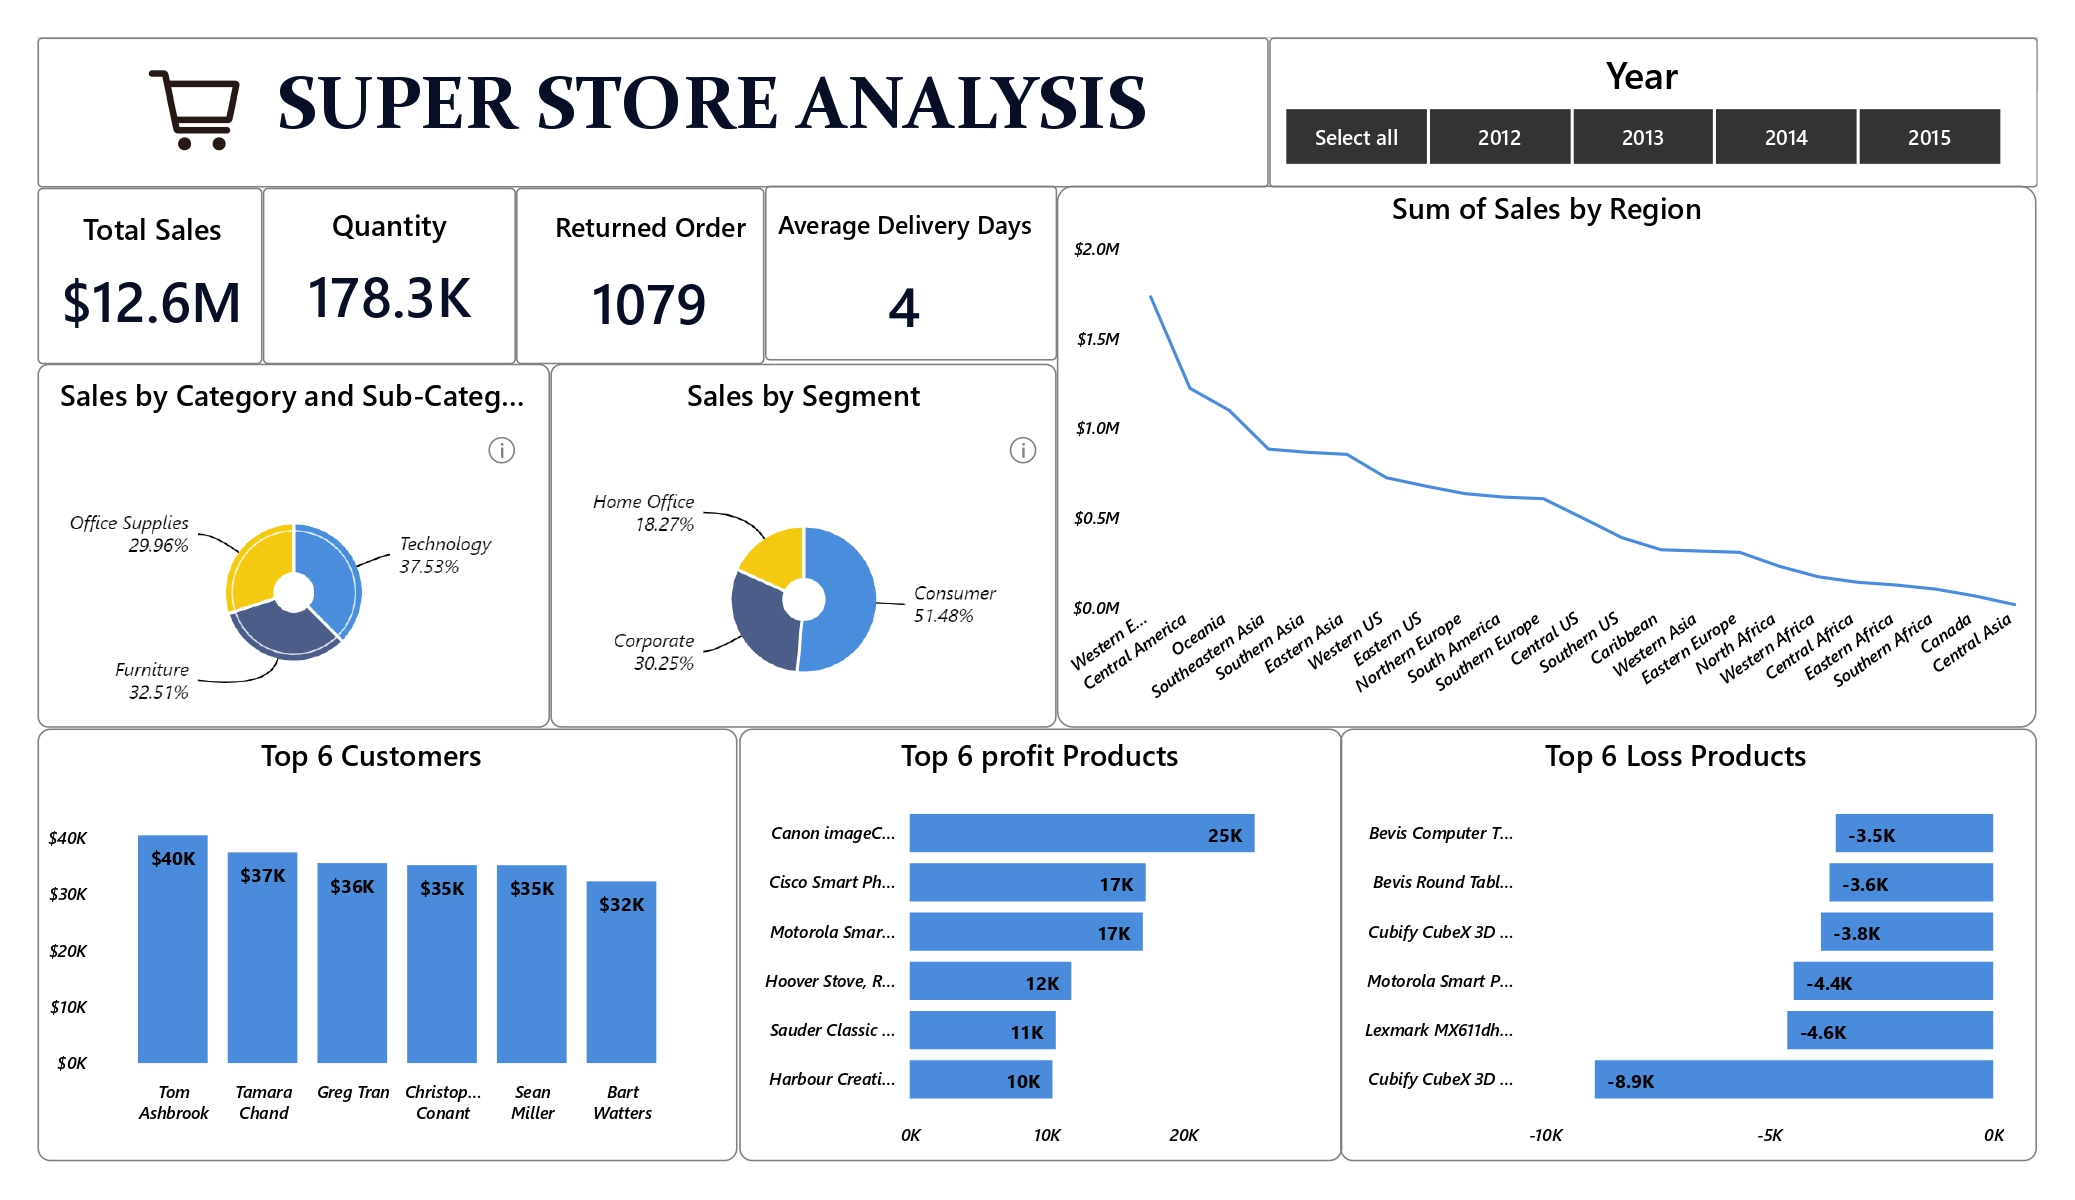

Layout of this report page (visuals, bound fields, positions):
{"tool":"powerbi","page":{"name":"Page 1","canvas":[1280,720],"ordinal":0},"visuals":[{"type":"shape","box":[0,0,799.5,140.6],"z":0},{"type":"shape","box":[429.1,143,356.9,140.6],"z":1000},{"type":"shape","box":[799.5,0,480.4,140.6],"z":2000},{"type":"shape","box":[6.1,151.6,429.1,299.5],"z":3000},{"type":"shape","box":[0,440.1,429.1,275],"z":4000},{"type":"shape","box":[429.1,275,12.2,15.9],"z":5000},{"type":"shape","box":[786,133.2,256.7,141.8],"z":6000},{"type":"shape","box":[429.1,413.2,440.1,301.9],"z":7000},{"type":"shape","box":[429.1,275,356.9,138.1],"z":8000},{"type":"shape","box":[1040.3,134.5,239.6,141.8],"z":9000},{"type":"shape","box":[1040.3,271.4,237.1,141.8],"z":11000},{"type":"shape","box":[786,271.4,251.8,141.8],"z":12000},{"type":"shape","box":[869.1,413.2,410.7,301.9],"z":13000},{"type":"textbox","box":[97.8,19.6,688.2,103.9],"z":14000},{"type":"slicer","title":"YEAR","fields":{"Values":["space_missions.Date.Variation.Date Hierarchy.Year"]},"box":[827.6,12.2,420.5,130.8],"z":15000},{"type":"clusteredBarChart","title":"Count of Missions by Company","fields":{"Category":["space_missions.Company"],"Y":["space_missions.count"]},"box":[449.8,437.6,393.6,265.3],"z":16000},{"type":"donutChart","title":"Rocket Status","fields":{"Category":["space_missions.RocketStatus"],"Y":["space_missions.count"]},"box":[34.2,451.1,323.9,255.5],"z":17000},{"type":"slicer","fields":{"Values":["space_missions.Company"]},"box":[449.8,150.4,257.9,125.9],"z":18000},{"type":"slicer","fields":{"Values":["space_missions.Country"]},"box":[449.8,283.6,298.3,119.8],"z":19000},{"type":"donutChart","title":"MissionStatus","fields":{"Category":["space_missions.MissionStatus"],"Y":["space_missions.count"]},"box":[893.6,436.4,354.5,265.3],"z":19001},{"type":"clusteredColumnChart","fields":{"Category":["space_missions.Date.Variation.Date Hierarchy.Month"],"Y":["space_missions.Mission"]},"box":[34.2,161.4,361.8,257.9],"z":19002},{"type":"card","title":"Total Missions","fields":{"Values":["space_missions.total mission"]},"box":[821.5,152.8,180.9,106.3],"z":19003},{"type":"card","title":"No. of Companies","fields":{"Values":["space_missions.total company"]},"box":[1063.5,149.1,193.1,110],"z":19004},{"type":"card","title":"No. of Rockets","fields":{"Values":["space_missions.total rockets"]},"box":[834.9,287.3,154,101.5],"z":19005},{"type":"card","title":"Success Rate","fields":{"Values":["space_missions.% success"]},"box":[1053.7,287.3,210.3,108.8],"z":19006}]}

Visuals, with their boxes on the page's 1280x720 design canvas (x1, y1, x2, y2). These are canvas units, not pixel positions in the 2075x1200 screenshot, which may show the page scaled, cropped or inside an application window:
shape: [x1=0, y1=0, x2=800, y2=141]
shape: [x1=429, y1=143, x2=786, y2=284]
shape: [x1=800, y1=0, x2=1280, y2=141]
shape: [x1=6, y1=152, x2=435, y2=451]
shape: [x1=0, y1=440, x2=429, y2=715]
shape: [x1=429, y1=275, x2=441, y2=291]
shape: [x1=786, y1=133, x2=1043, y2=275]
shape: [x1=429, y1=413, x2=869, y2=715]
shape: [x1=429, y1=275, x2=786, y2=413]
shape: [x1=1040, y1=134, x2=1280, y2=276]
shape: [x1=1040, y1=271, x2=1277, y2=413]
shape: [x1=786, y1=271, x2=1038, y2=413]
shape: [x1=869, y1=413, x2=1280, y2=715]
textbox: [x1=98, y1=20, x2=786, y2=124]
"YEAR" slicer: [x1=828, y1=12, x2=1248, y2=143]
"Count of Missions by Company" clusteredBarChart: [x1=450, y1=438, x2=843, y2=703]
"Rocket Status" donutChart: [x1=34, y1=451, x2=358, y2=707]
slicer - space_missions.Company: [x1=450, y1=150, x2=708, y2=276]
slicer - space_missions.Country: [x1=450, y1=284, x2=748, y2=403]
"MissionStatus" donutChart: [x1=894, y1=436, x2=1248, y2=702]
clusteredColumnChart - space_missions.Date.Variation.Date Hierarchy.Month x space_missions.Mission: [x1=34, y1=161, x2=396, y2=419]
"Total Missions" card: [x1=822, y1=153, x2=1002, y2=259]
"No. of Companies" card: [x1=1064, y1=149, x2=1257, y2=259]
"No. of Rockets" card: [x1=835, y1=287, x2=989, y2=389]
"Success Rate" card: [x1=1054, y1=287, x2=1264, y2=396]
